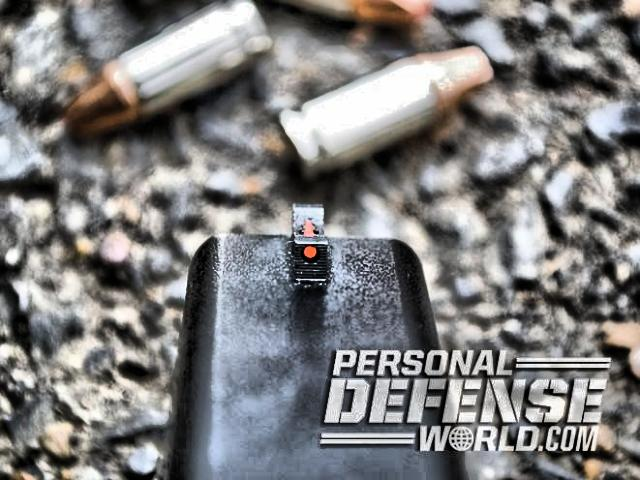pistol: (166, 195, 472, 479)
